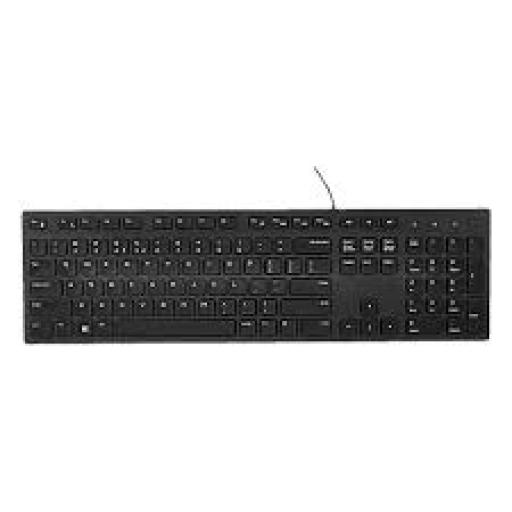KEYBOARD-2: (25, 209, 487, 341)
